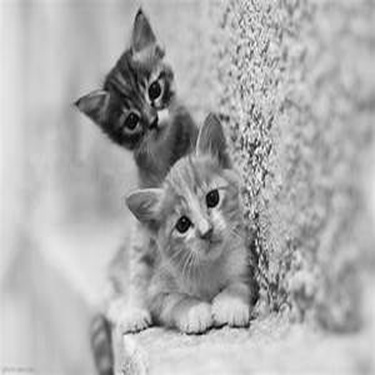cat: (83, 110, 256, 368), (57, 10, 198, 195)
